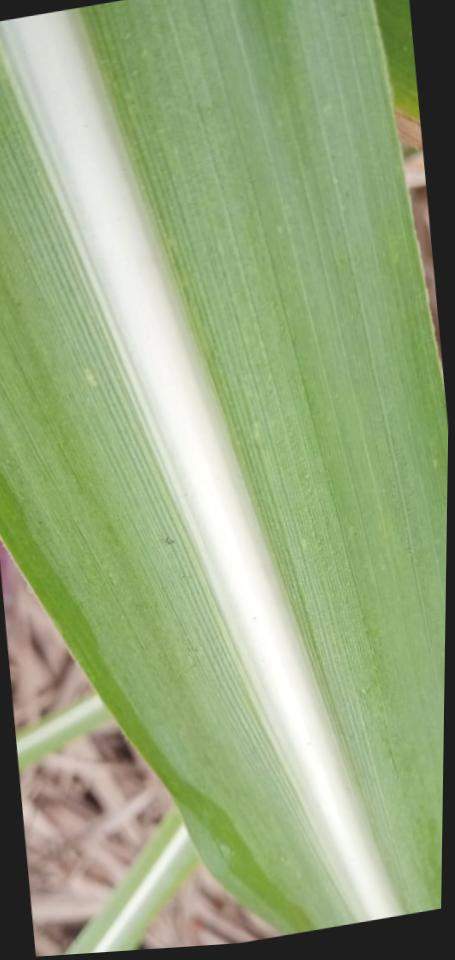Healthy: (0, 0, 448, 935), (64, 807, 202, 955)
